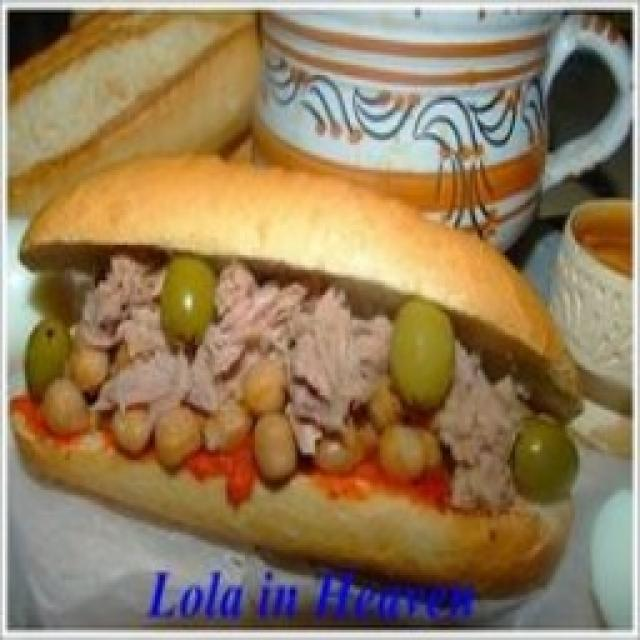Frecasse: (15, 152, 585, 595)
